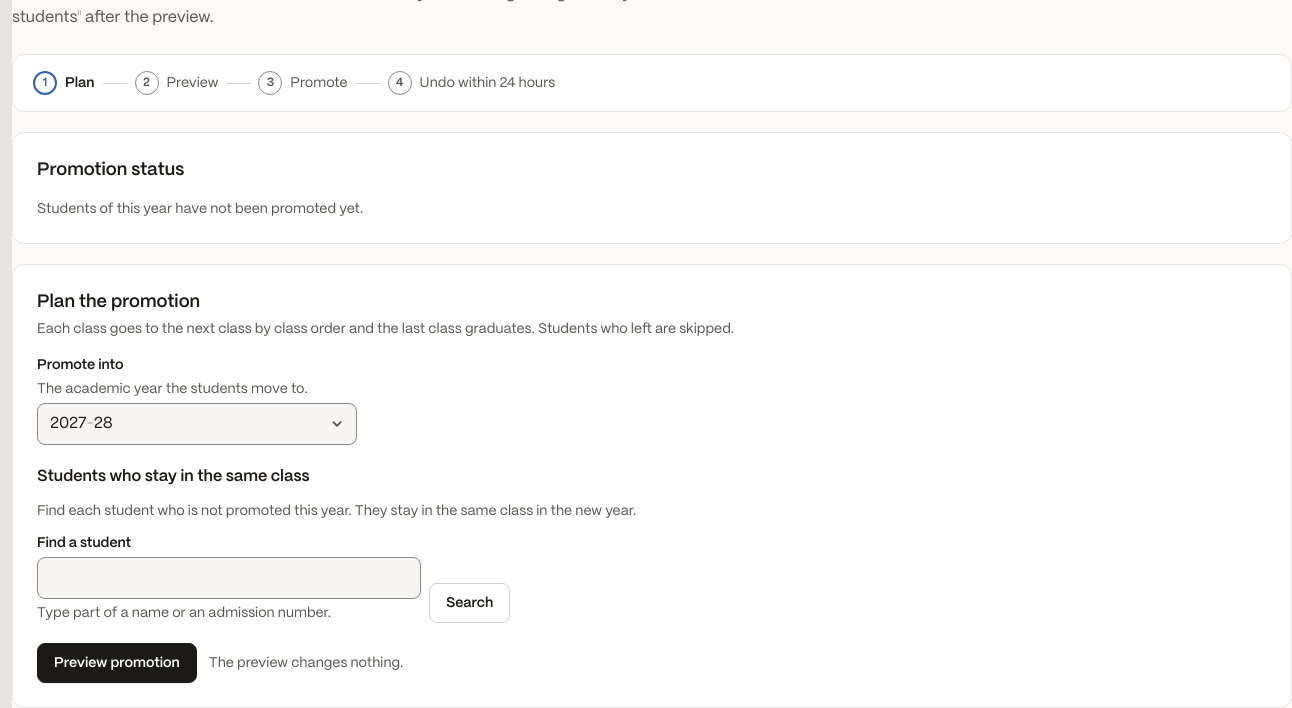
Test case: promotions screen (FR-TEN-011, US-202 AC2) › explains validation codes from the preview (held-back student not in this year)
(page scrolled)
Click the button "Preview promotion": (117, 663) [37,643,197,683]
(page scrolled)
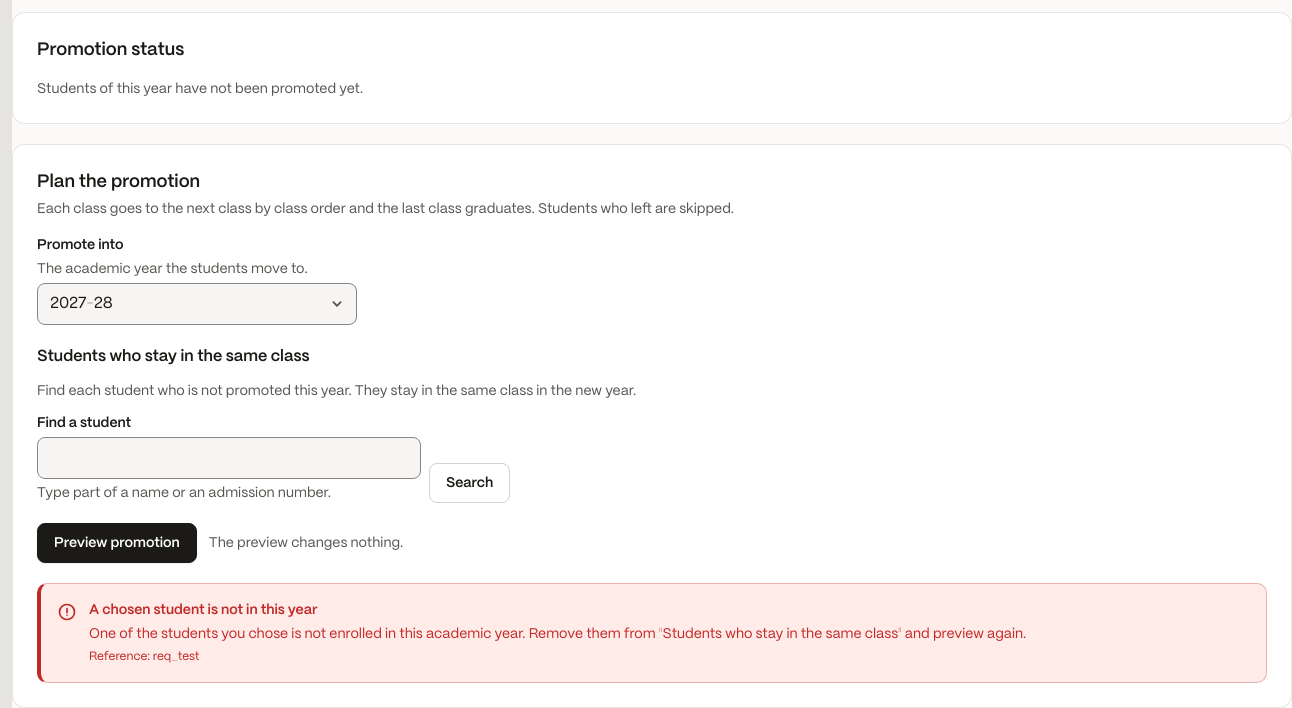
Expected: the text "A chosen student is not in this year" is shown, [89,603,317,617]
